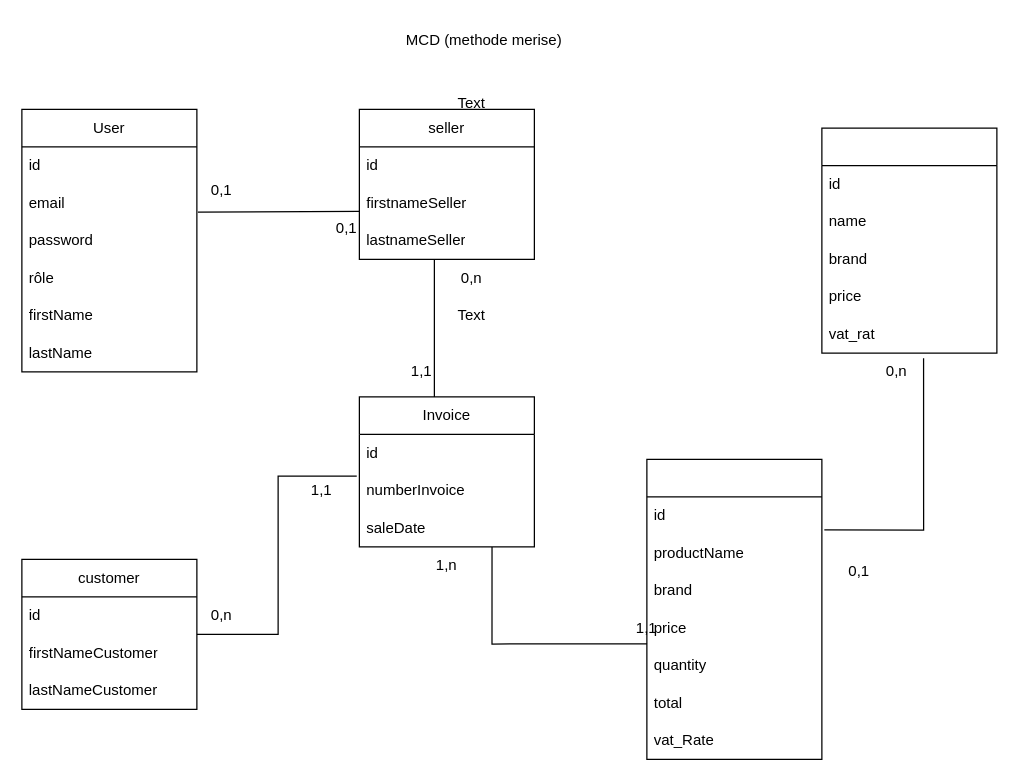
The diagram is 1019 pixels wide and 781 high, and some of its shapes have lost their labels. Each missing label, with the box of its shape:
product: (821, 127, 997, 353)
row invoice: (646, 458, 822, 759)
